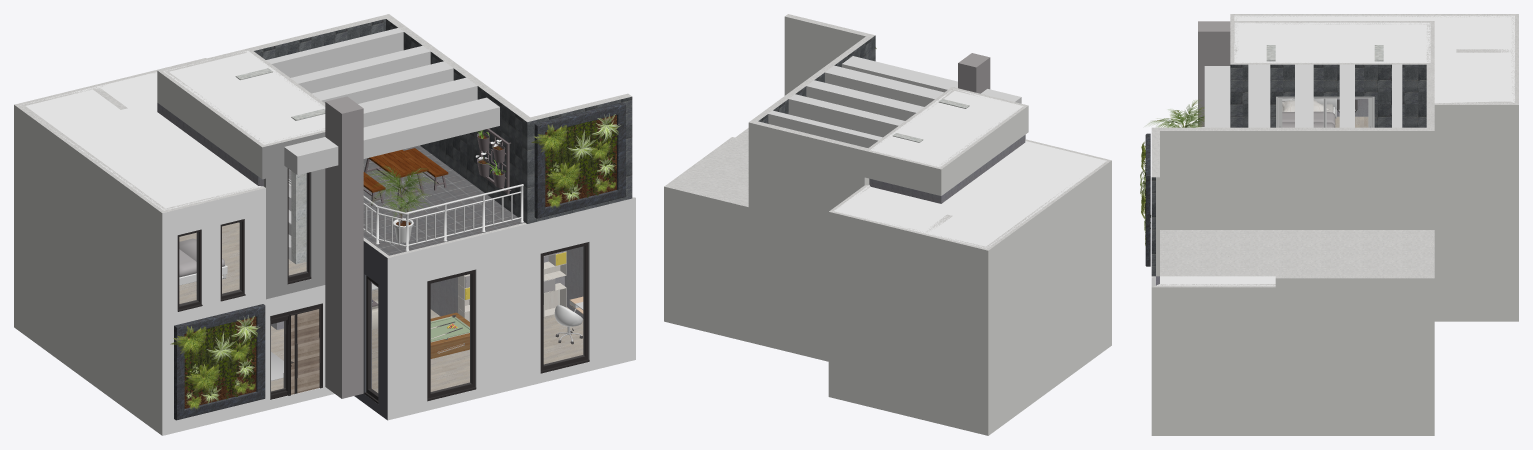
3 renders of one model, left to right at view 1: azimuth 30°, elevation 25°; view 2: azimuth 150°, elevation 25°; view 3: azimuth 270°, elevation 25°, orthographic. The views are drawn at different scales.
Visible parts, largest first — view 1: Object_11, Object_9, Object_10, Object_38, Object_47, Object_30, Object_15, Object_54, Object_14, Object_70, Object_68, Object_25 (+17 smaller); view 2: Object_9, Object_10, Object_38, Object_25, Object_24, Object_89, Object_30, Object_15; view 3: Object_9, Object_10, Object_24, Object_15, Object_38, Object_25, Object_30, Object_47, Object_45, Object_70, Object_95.
Part boxes in pixels (x1=…): Object_11: x1=162, y1=188, x2=635, y2=435; Object_9: x1=14, y1=71, x2=262, y2=435; Object_10: x1=23, y1=50, x2=325, y2=210; Object_38: x1=222, y1=28, x2=523, y2=278; Object_47: x1=179, y1=169, x2=583, y2=393; Object_30: x1=179, y1=96, x2=566, y2=398; Object_15: x1=254, y1=19, x2=632, y2=223; Object_54: x1=177, y1=168, x2=589, y2=403; Object_14: x1=288, y1=145, x2=524, y2=255; Object_70: x1=174, y1=102, x2=625, y2=420; Object_68: x1=184, y1=119, x2=617, y2=402; Object_25: x1=14, y1=14, x2=631, y2=213; Object_9: x1=664, y1=16, x2=1111, y2=435; Object_10: x1=833, y1=89, x2=1106, y2=248; Object_38: x1=768, y1=56, x2=1021, y2=147; Object_25: x1=749, y1=14, x2=1111, y2=250; Object_24: x1=664, y1=128, x2=748, y2=206; Object_89: x1=869, y1=135, x2=1025, y2=203; Object_30: x1=958, y1=53, x2=990, y2=93; Object_15: x1=758, y1=35, x2=875, y2=123; Object_9: x1=1151, y1=105, x2=1518, y2=435; Object_10: x1=1157, y1=15, x2=1514, y2=285; Object_24: x1=1151, y1=230, x2=1434, y2=278; Object_15: x1=1151, y1=64, x2=1426, y2=276; Object_38: x1=1184, y1=64, x2=1402, y2=127; Object_25: x1=1151, y1=14, x2=1518, y2=287; Object_30: x1=1198, y1=21, x2=1335, y2=127; Object_47: x1=1282, y1=98, x2=1367, y2=127; Object_45: x1=1276, y1=96, x2=1374, y2=127; Object_70: x1=1145, y1=133, x2=1150, y2=266; Object_95: x1=1146, y1=100, x2=1204, y2=127.
Bounding box in the file's own units: 12.01 × 7.8 × 9.36.
Materials: 99 (76 with a texture image).
